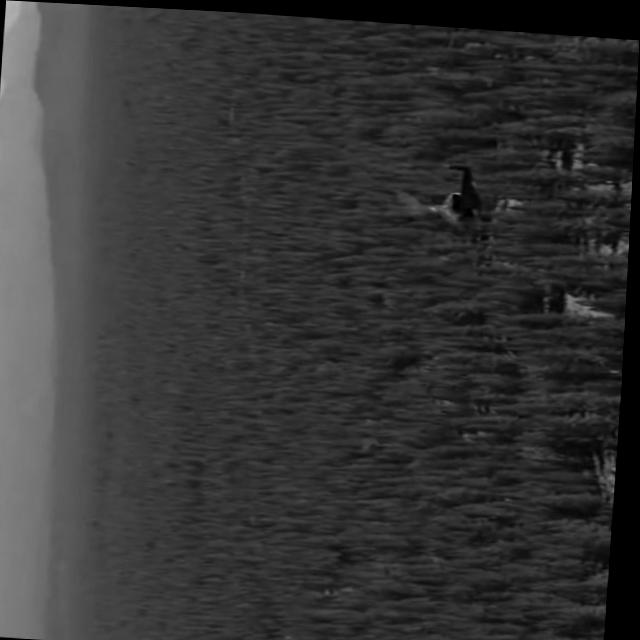helikopter: (373, 131, 526, 256)
